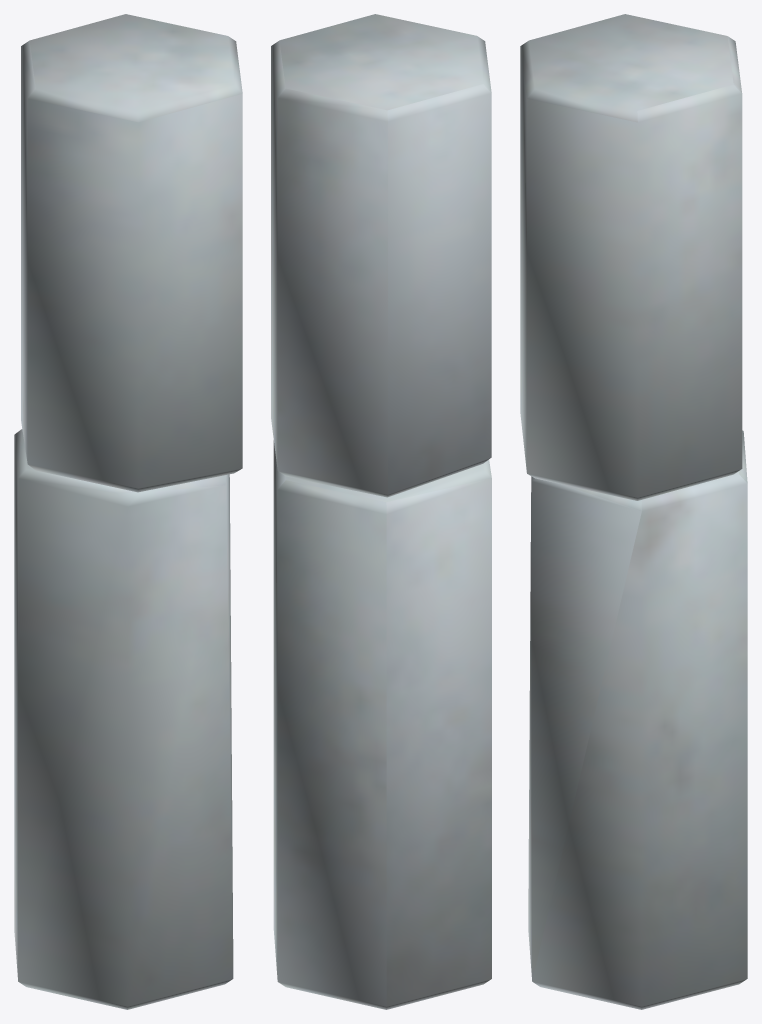
File: P_RockHexic_Piece13.obj
3 renders of one model, left to right at view 1: azimuth 30°, elevation 25°; view 2: azimuth 150°, elevation 25°; view 3: azimuth 270°, elevation 25°, orthographic.
Size of the model in its own units: 3.67 by 14.35 by 3.28.
